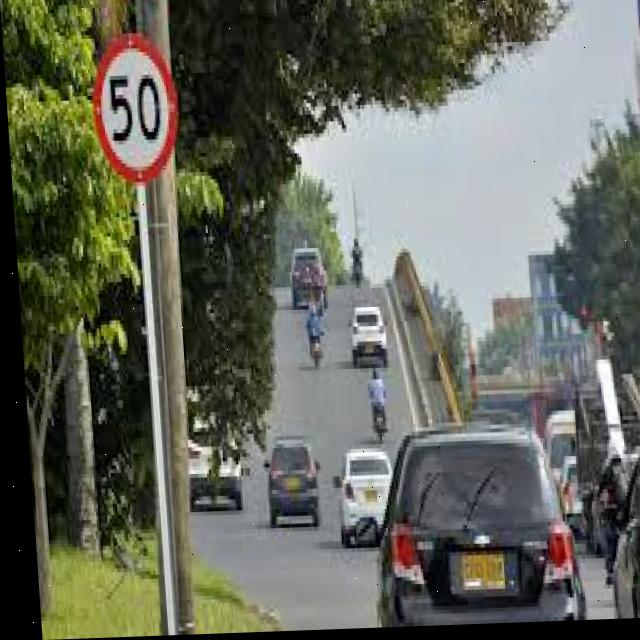Speed limit 50: (86, 26, 184, 189)
